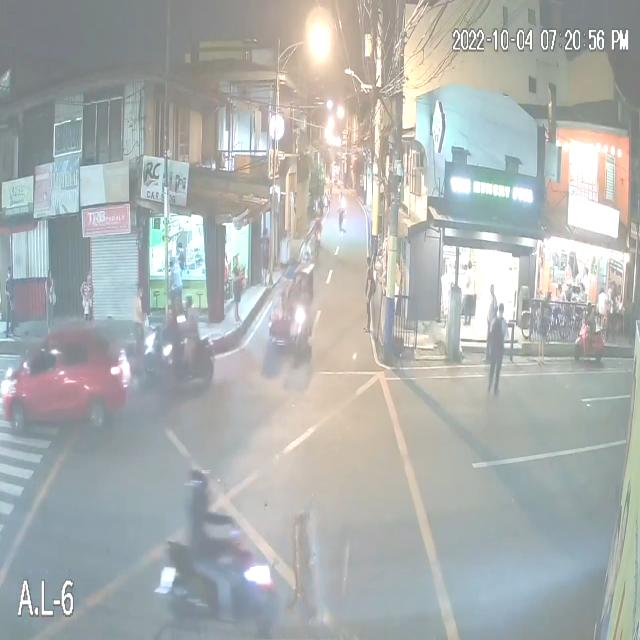Full-Faced: (187, 466, 215, 514)
